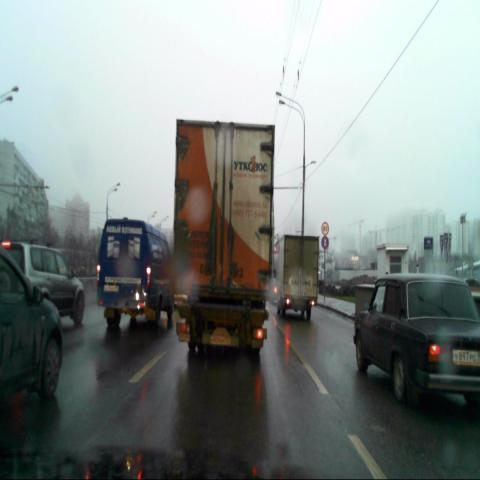3_30: (321, 235, 329, 249)
